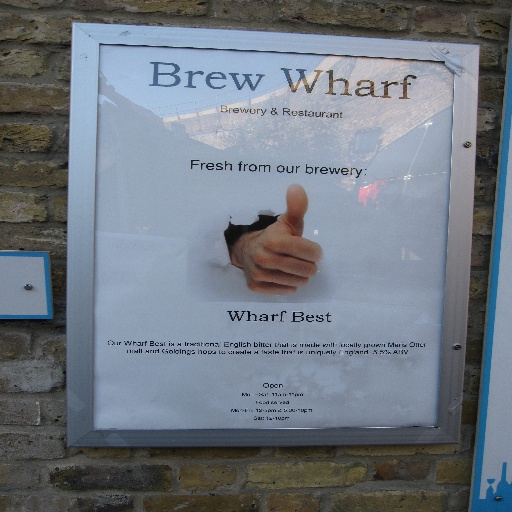hand: (224, 193, 329, 288)
